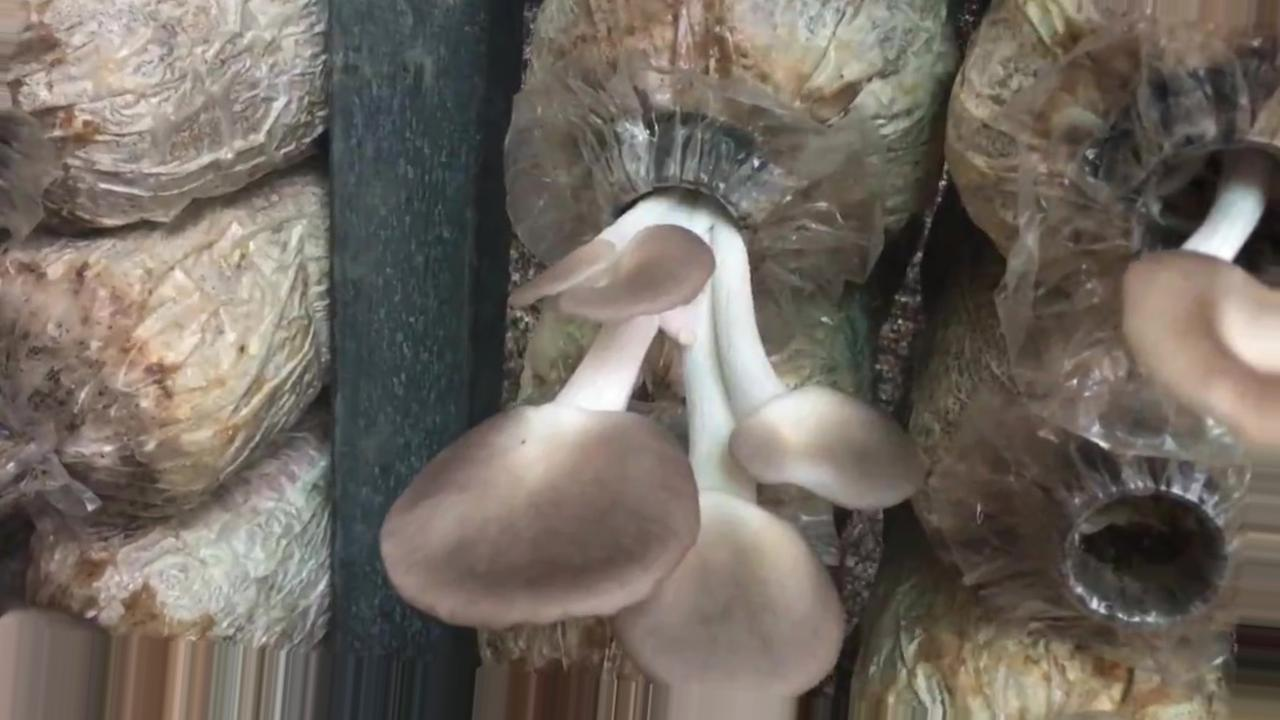nam: (382, 130, 923, 720), (1118, 99, 1280, 444)
